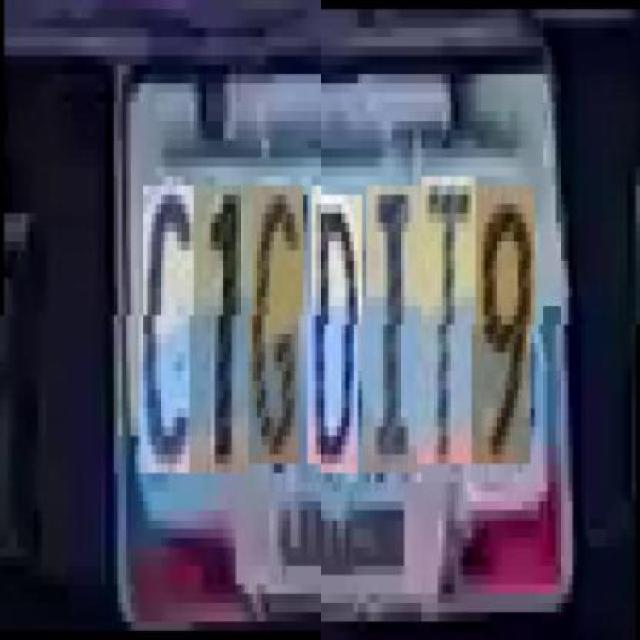1: (194, 195, 252, 482)
9: (476, 185, 536, 464)
c: (143, 195, 199, 482)
d: (312, 195, 362, 473)
g: (252, 195, 303, 473)
i: (366, 185, 422, 473)
t: (421, 176, 476, 464)
